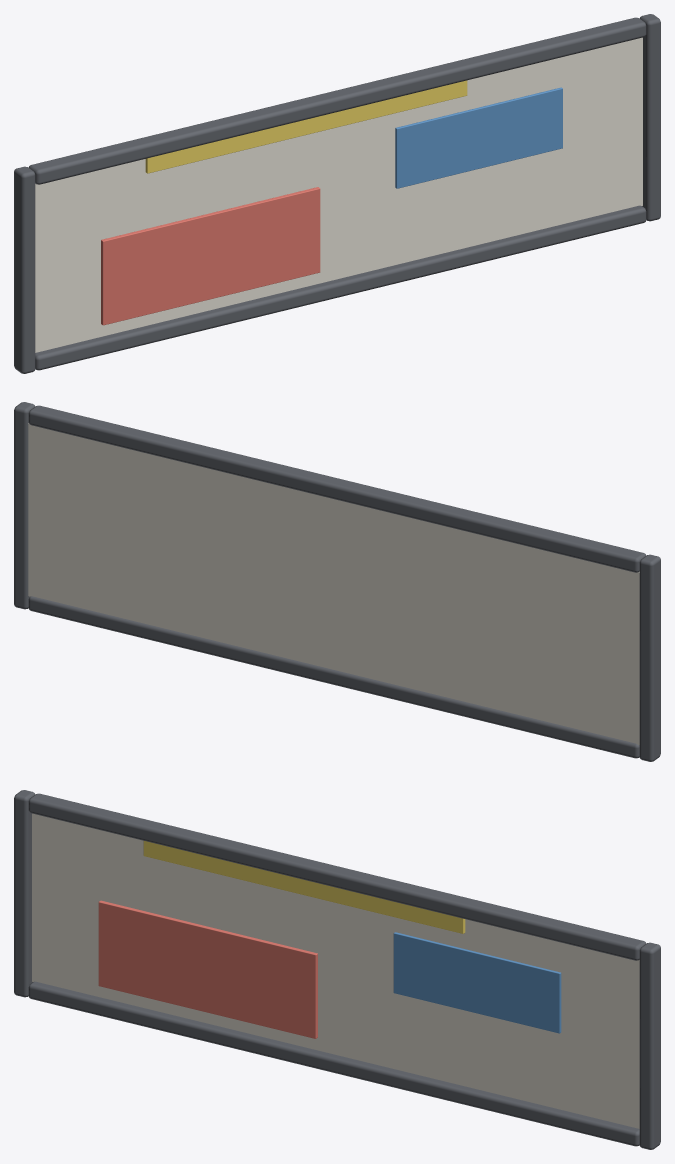
3 views of the same model, one above another, from view 1: azimuth 30°, elevation 25°; view 2: azimuth 150°, elevation 25°; view 3: azimuth 330°, elevation 25° (orthographic).
Visible parts, largest first — view 1: framed-canvas-panorama; view 2: framed-canvas-panorama; view 3: framed-canvas-panorama.
Boxes of the visible parts, x1=… form: framed-canvas-panorama: x1=14, y1=14, x2=660, y2=373; framed-canvas-panorama: x1=14, y1=402, x2=660, y2=761; framed-canvas-panorama: x1=14, y1=790, x2=660, y2=1149.
Bounding box in the file's own units: 2.2 × 0.6599 × 0.0599.
